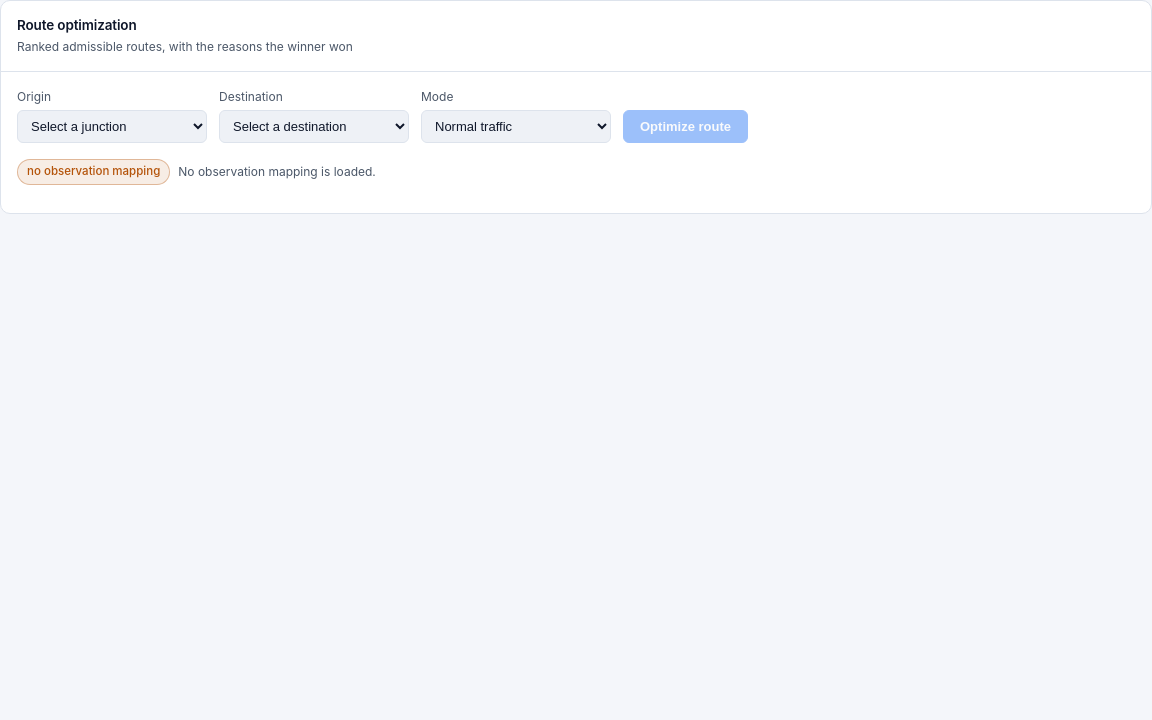
Test: RouteOptimizationPanel › renders the recommended route and its reasons
Select "J1" in the dropdown labelled "Origin". click: point(112, 127)
box: x1=17 y1=110 x2=207 y2=143
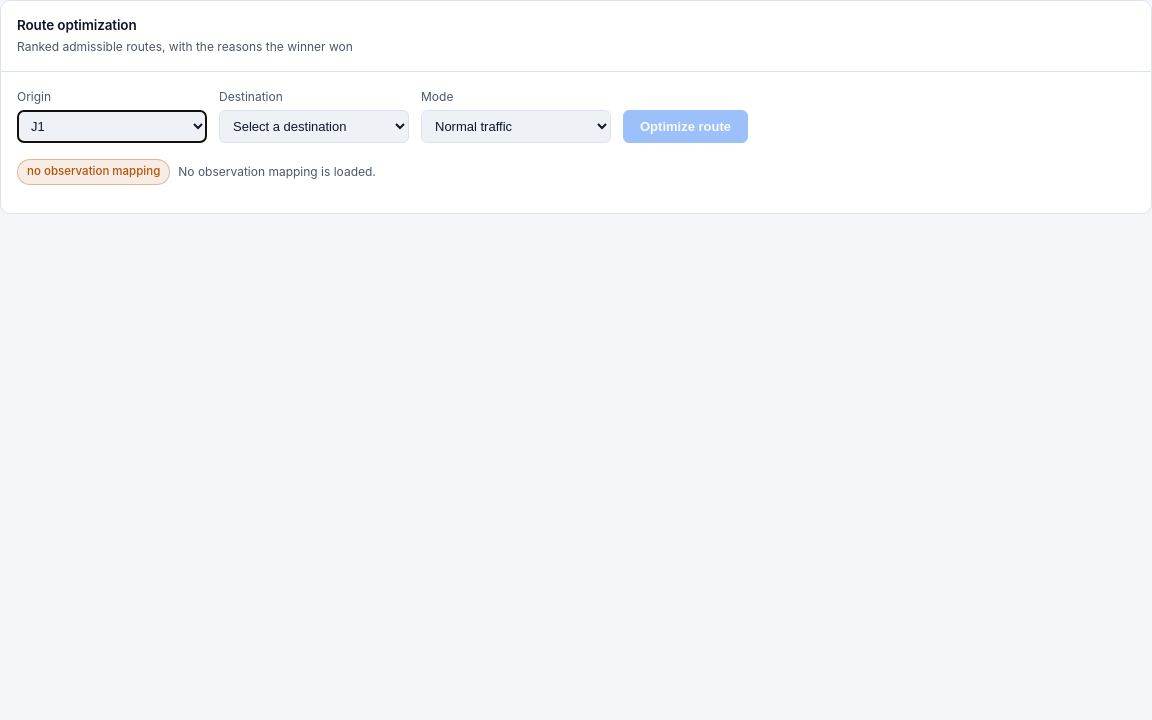
Select "J3" in the dropdown labelled "Destination". click: point(314, 127)
box: x1=219 y1=110 x2=409 y2=143
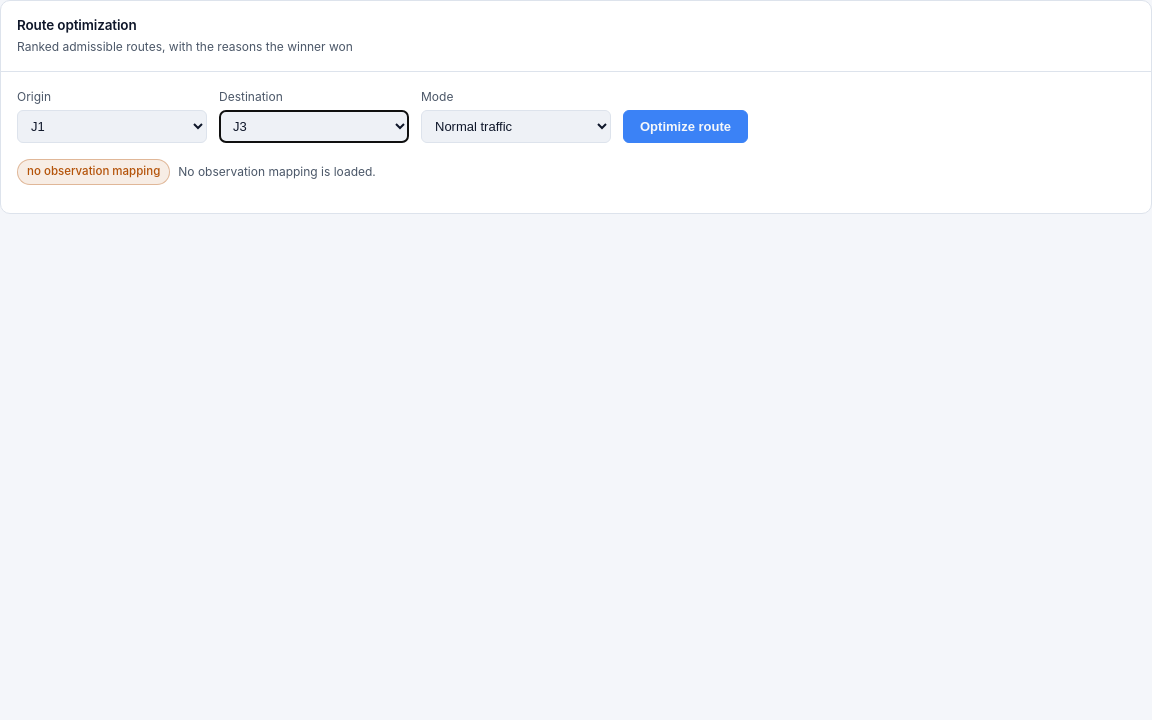
Click the button "Optimize route". click: point(686, 127)
box: x1=623 y1=110 x2=748 y2=143
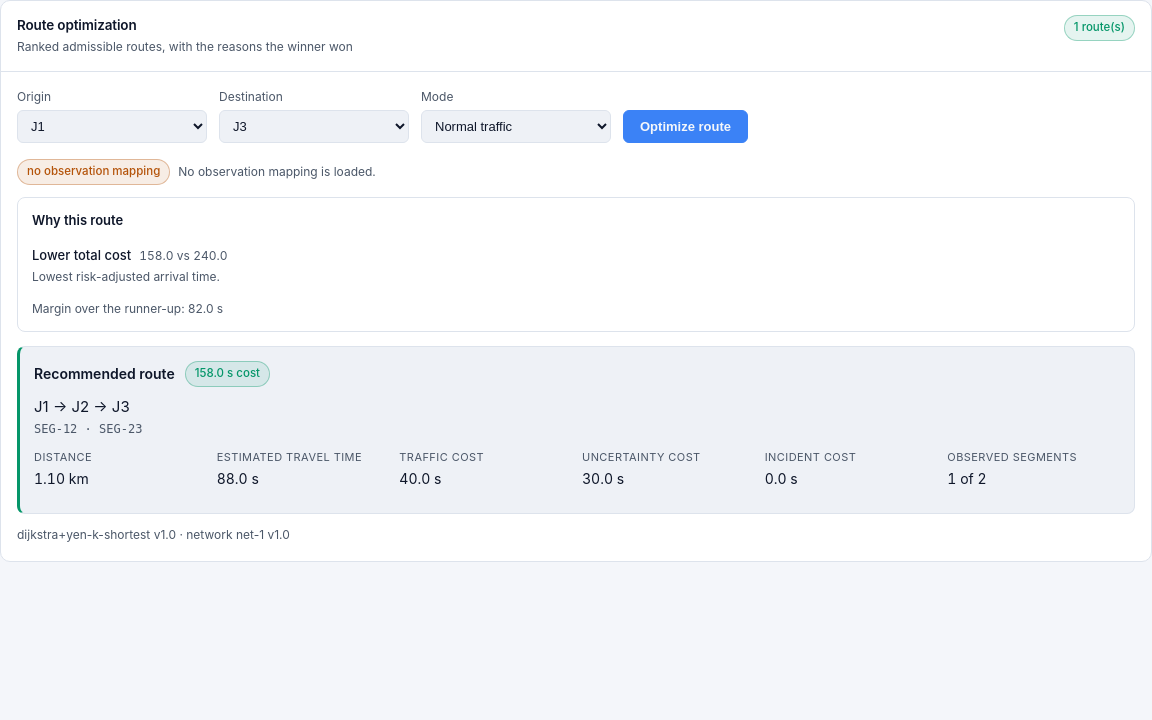
Expected: the text "Recommended route" is shown, x1=34 y1=363 x2=175 y2=385
Expected: the text "J1 → J2 → J3" is shown, x1=34 y1=397 x2=130 y2=416
Expected: the text "Lower total cost" is shown, x1=32 y1=247 x2=131 y2=263
